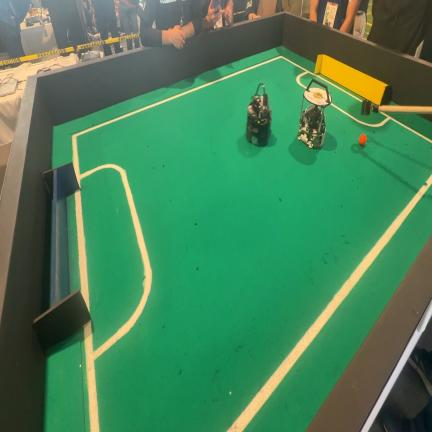cancha: (44, 46, 432, 432), (392, 98, 395, 104)
limites: (72, 56, 363, 432), (228, 174, 432, 432), (330, 100, 432, 144), (75, 190, 90, 311)
pelota: (359, 134, 366, 146)
porteria: (32, 162, 91, 351), (314, 54, 392, 105)
